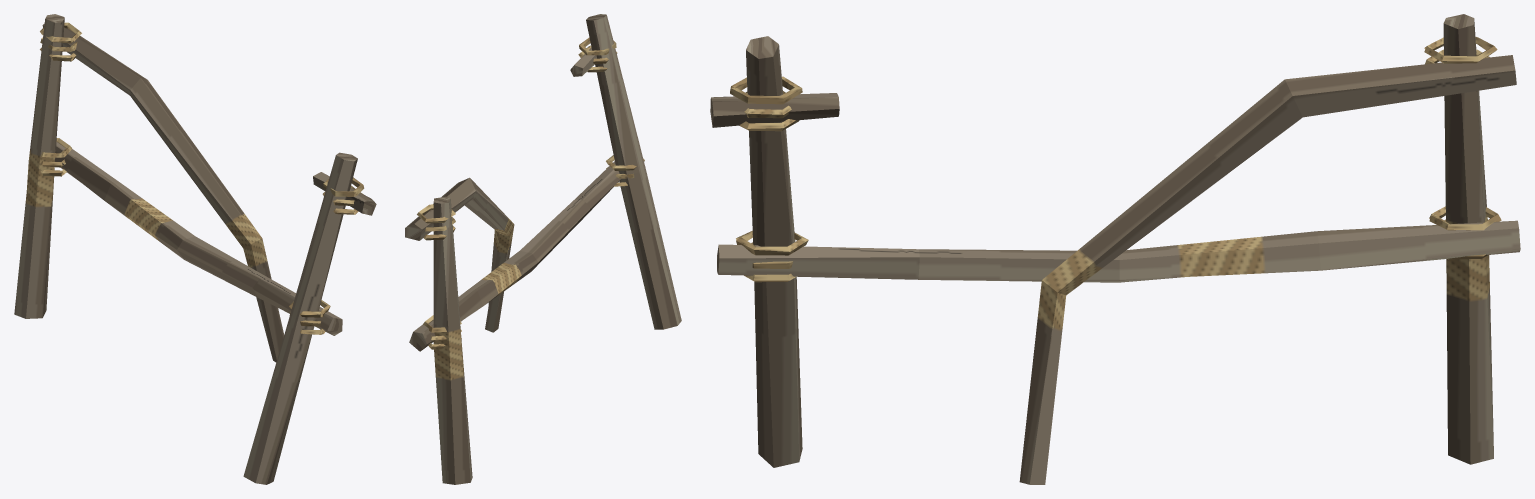
The model's file is camp_fence_b.fbx.
3 renders of one model, left to right at view 1: azimuth 30°, elevation 25°; view 2: azimuth 150°, elevation 25°; view 3: azimuth 270°, elevation 25°, orthographic. The views are drawn at different scales.
Visible parts, largest first — view 1: camp_fence_b; view 2: camp_fence_b; view 3: camp_fence_b.
Part boxes in pixels (x1=…): camp_fence_b: x1=14, y1=14, x2=376, y2=484; camp_fence_b: x1=405, y1=14, x2=681, y2=484; camp_fence_b: x1=710, y1=14, x2=1520, y2=484.
Bounding box in the file's own units: 58.95 × 137 × 211.
